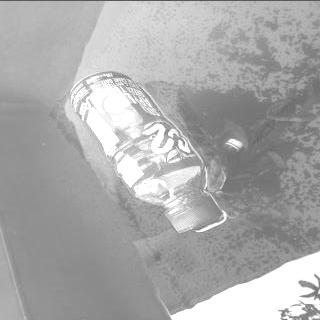bottle: (68, 67, 220, 233)
